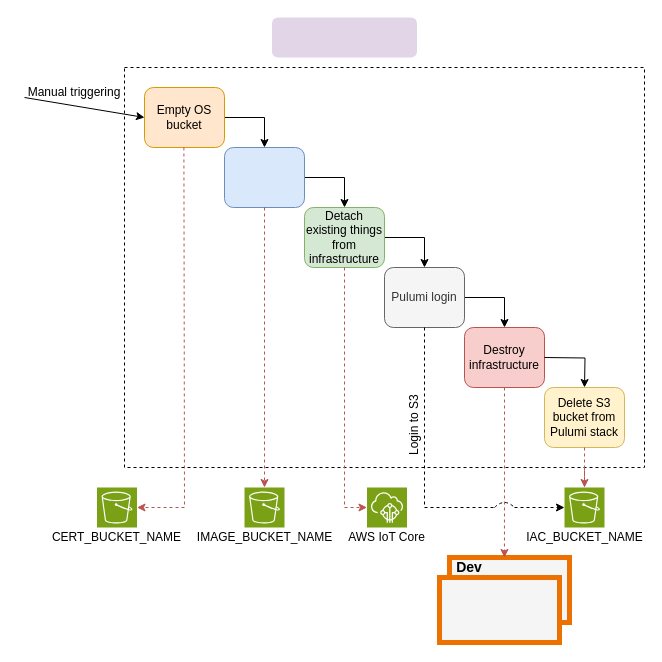
Some shapes in this 662 by 662 pixel diagram are drawn without their labels. The centre of each missing label's shape, as x and y in pixels:
Destroy infrastucture: the point at 344,37
Empty claim certificate bucket: the point at 264,177
Prod: the point at 499,609
